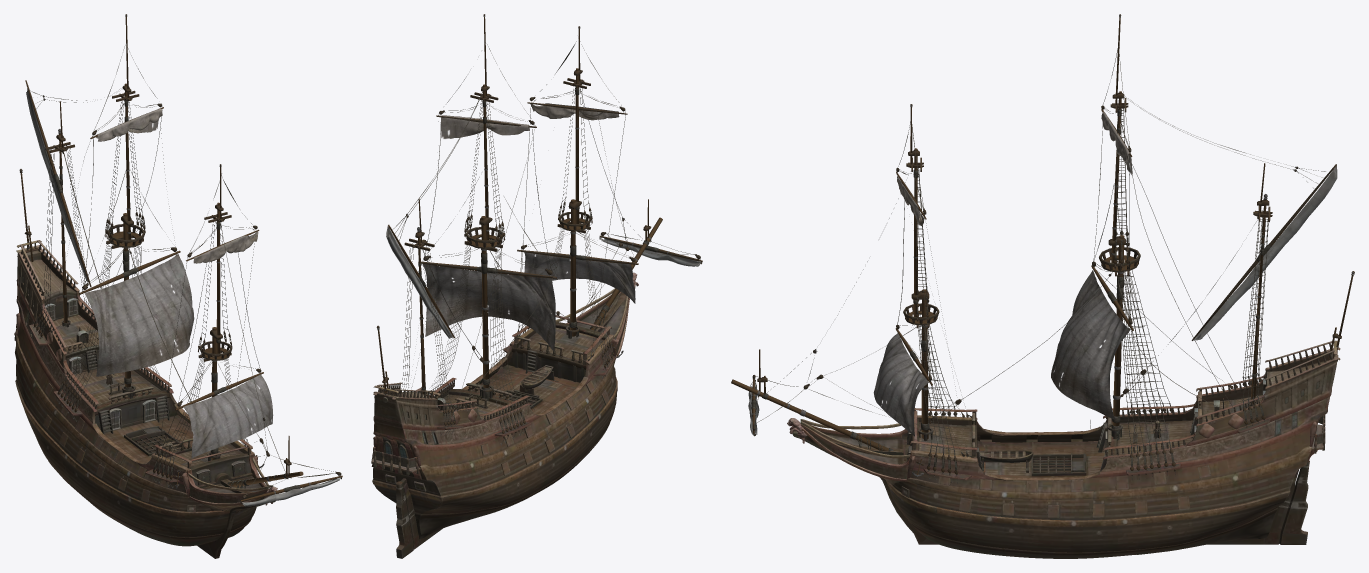
Rendered from ship2 -backup scaled.glb.
3 renders of one model, left to right at view 1: azimuth 30°, elevation 25°; view 2: azimuth 150°, elevation 25°; view 3: azimuth 270°, elevation 25°, orthographic. The views are drawn at different scales.
Parts seen in each view (by area): view 1: dutch_ship_large_02_hull, dutch_ship_large_02_rigging, dutch_ship_large_02_sails; view 2: dutch_ship_large_02_hull, dutch_ship_large_02_rigging, dutch_ship_large_02_sails; view 3: dutch_ship_large_02_hull, dutch_ship_large_02_rigging, dutch_ship_large_02_sails.
Boxes of the visible parts, x1,y1,x2,y2 form: dutch_ship_large_02_hull: (14, 240, 277, 558); dutch_ship_large_02_rigging: (19, 14, 342, 506); dutch_ship_large_02_sails: (85, 108, 273, 458); dutch_ship_large_02_hull: (371, 272, 638, 558); dutch_ship_large_02_rigging: (376, 14, 702, 445); dutch_ship_large_02_sails: (422, 103, 635, 350); dutch_ship_large_02_hull: (787, 340, 1340, 558); dutch_ship_large_02_rigging: (731, 14, 1354, 483); dutch_ship_large_02_sails: (873, 112, 1132, 436).
Size of the model in its own units: 8.54 by 32.08 by 34.25.
Materials: 3 (3 with a texture image).
